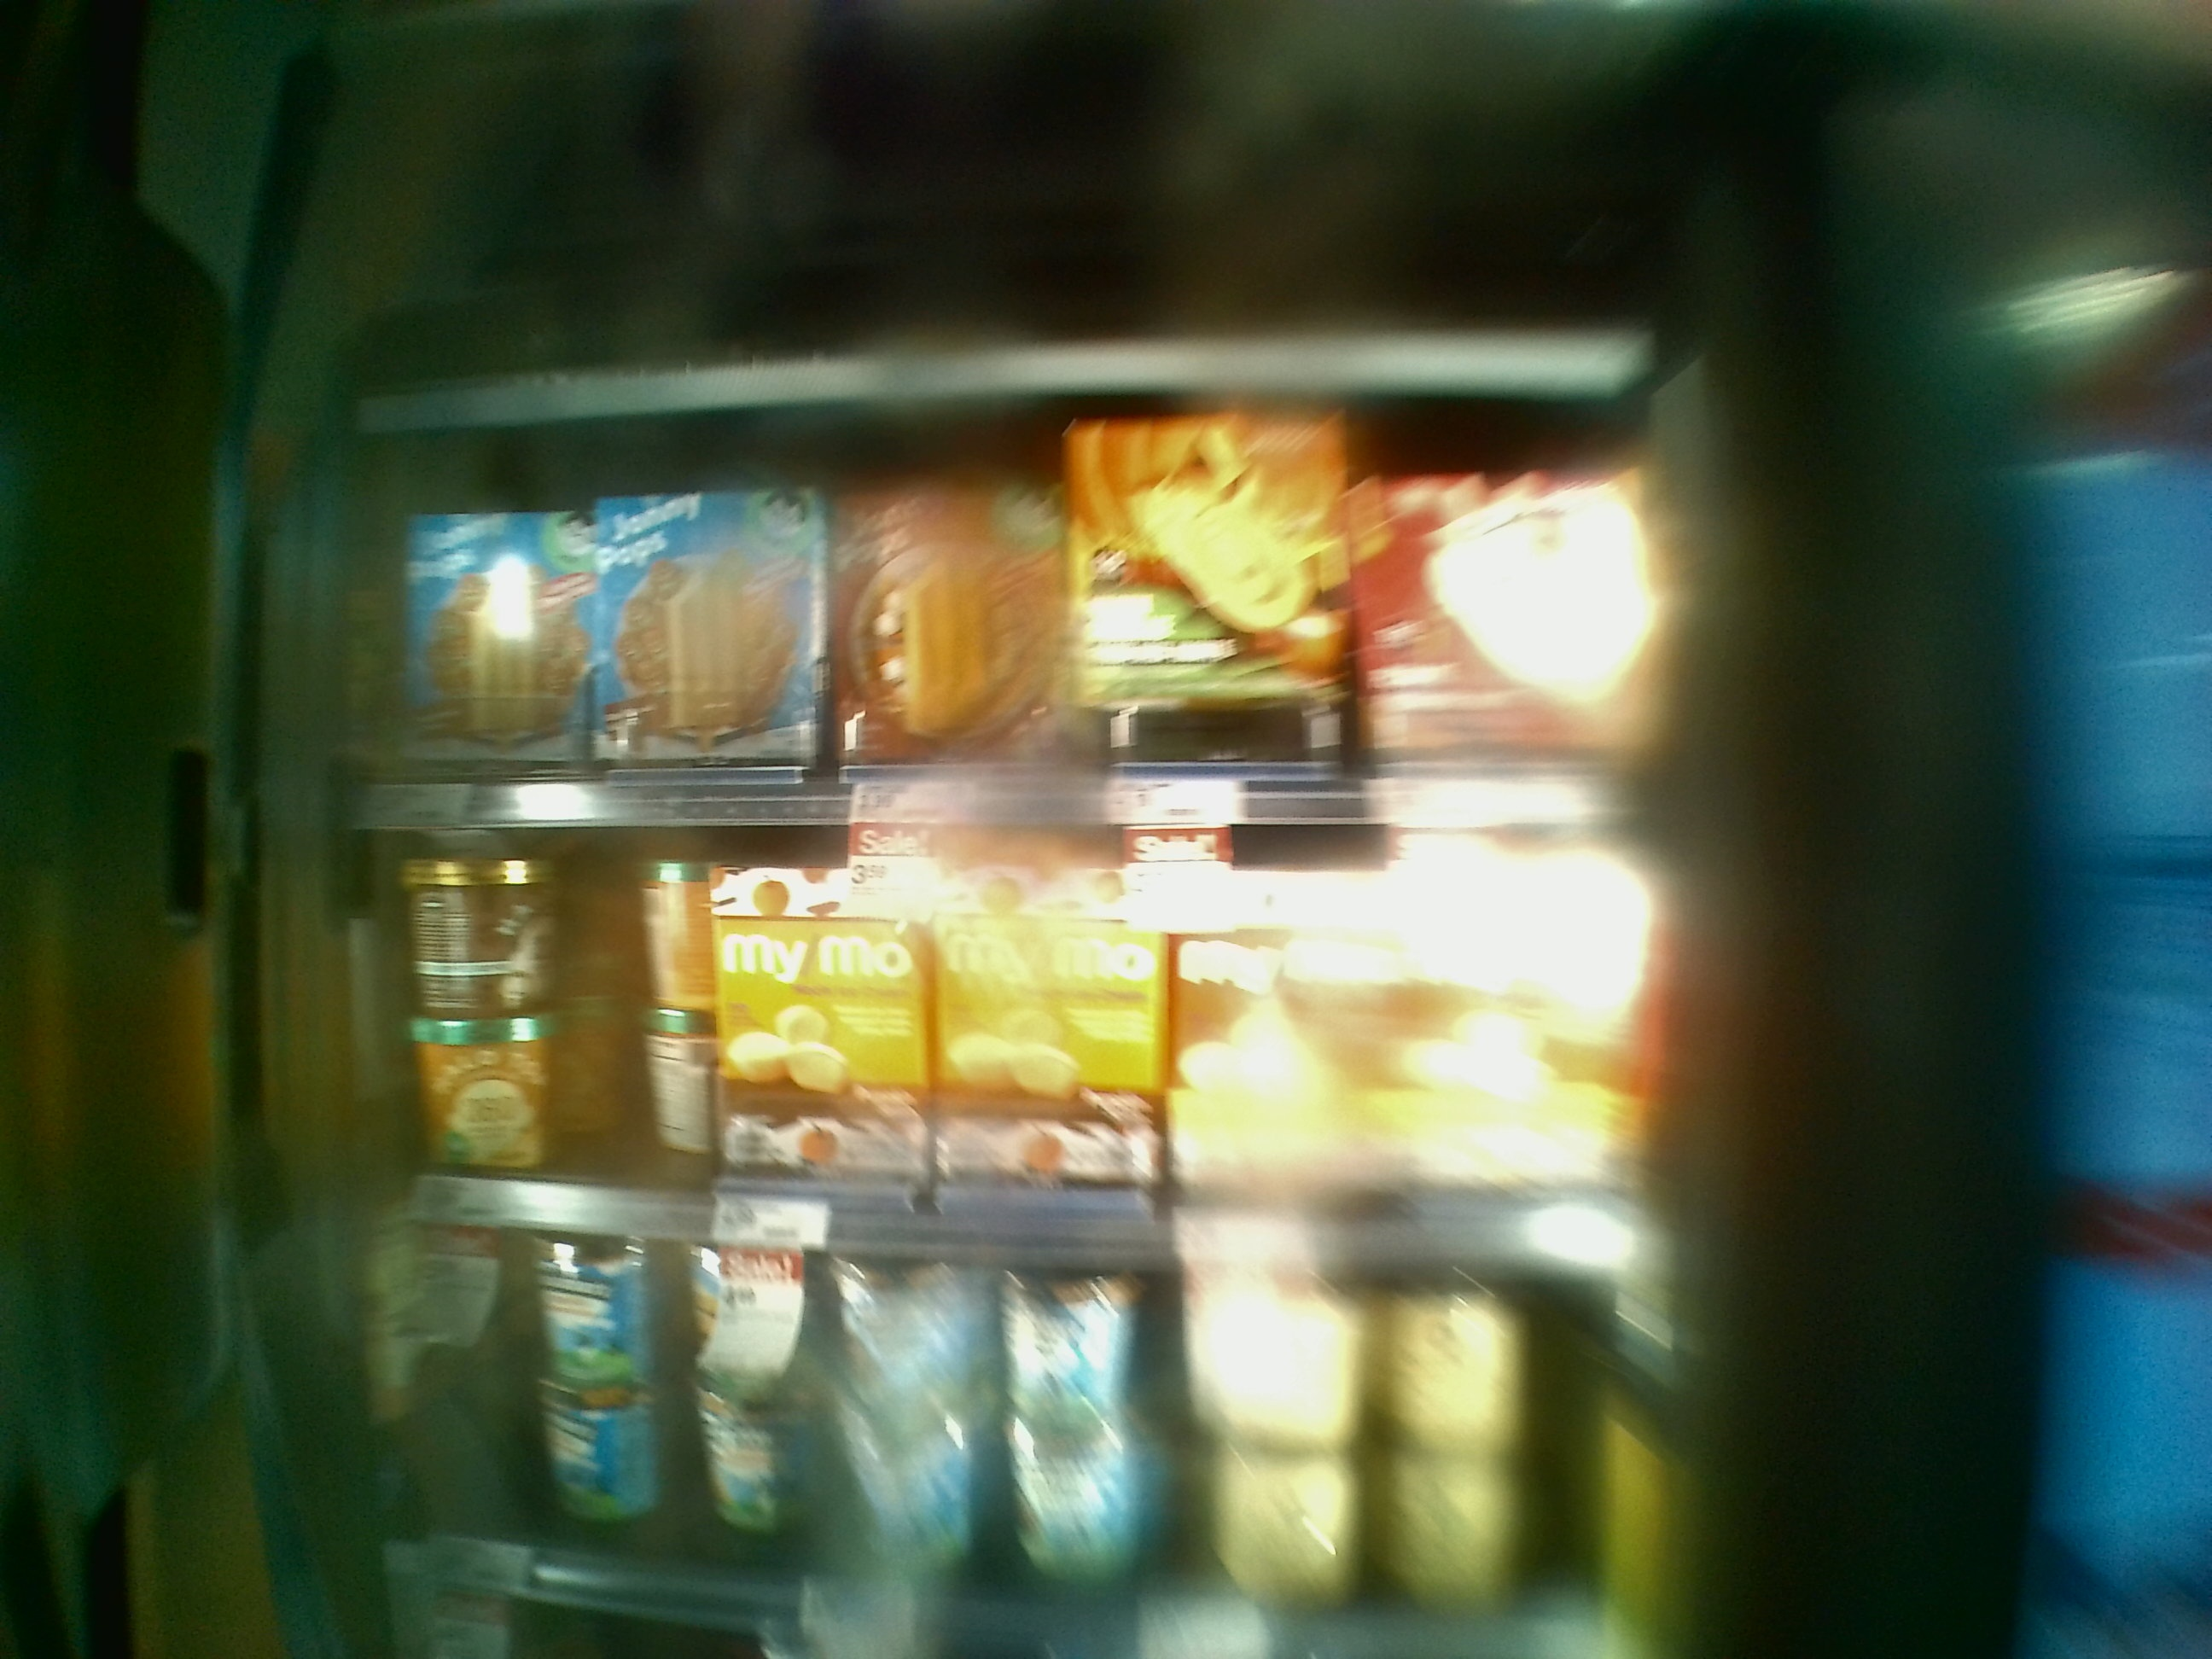shelf: (333, 803, 1677, 1267), (354, 399, 1667, 829)
